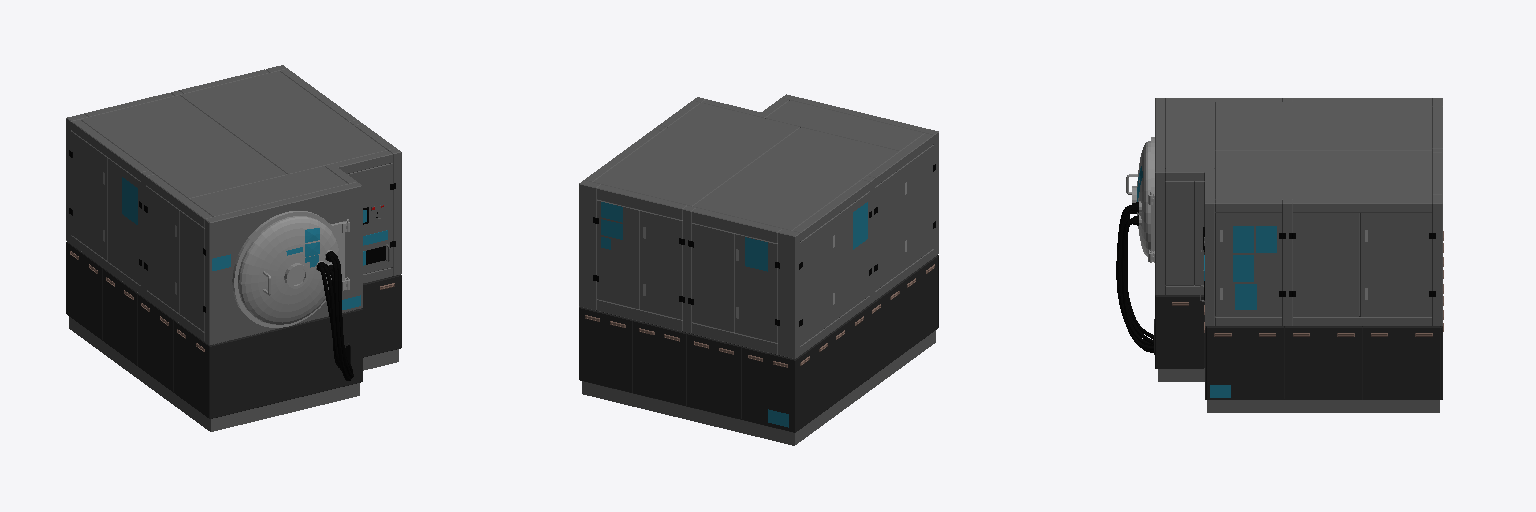
File: 03ZKX.obj
3 renders of one model, left to right at view 1: azimuth 30°, elevation 25°; view 2: azimuth 150°, elevation 25°; view 3: azimuth 270°, elevation 25°, orthographic.
Parts seen in each view (by area): view 1: Metal_02, Metal_04, Metal_01, Tex, Black, Metal_05; view 2: Metal_02, Metal_04, Tex, Handle; view 3: Metal_02, Metal_04, Tex, Metal_01, Black, Handle.
Part boxes in pixels (x1,y1,x2,y2): Metal_02: (66, 65, 401, 431); Metal_04: (66, 241, 401, 418); Metal_01: (103, 172, 349, 327); Tex: (122, 177, 387, 309); Black: (317, 251, 353, 380); Metal_05: (69, 150, 395, 312); Metal_02: (579, 94, 938, 445); Metal_04: (579, 255, 938, 432); Tex: (601, 202, 867, 427); Handle: (585, 264, 934, 367); Metal_02: (1155, 98, 1442, 412); Metal_04: (1154, 295, 1442, 399); Tex: (1137, 166, 1276, 397); Metal_01: (1126, 137, 1367, 299); Black: (1116, 202, 1153, 352); Handle: (1172, 231, 1443, 336).
Bounding box in the file's own units: 84.05 × 77.17 × 109.